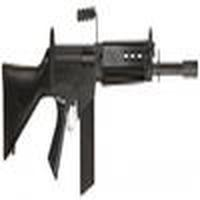gun: (2, 5, 196, 161)
